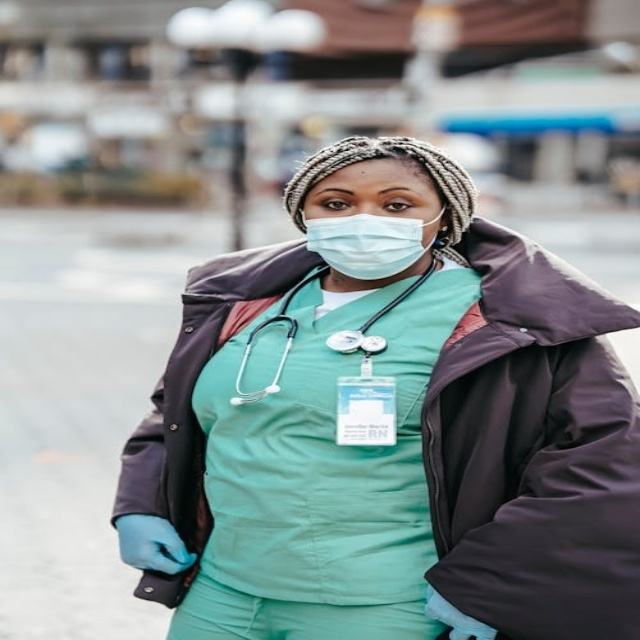Guantes: (114, 513, 195, 574), (424, 579, 499, 640)
Mascara: (304, 205, 440, 279)
Sin_gafas: (302, 183, 435, 211)
